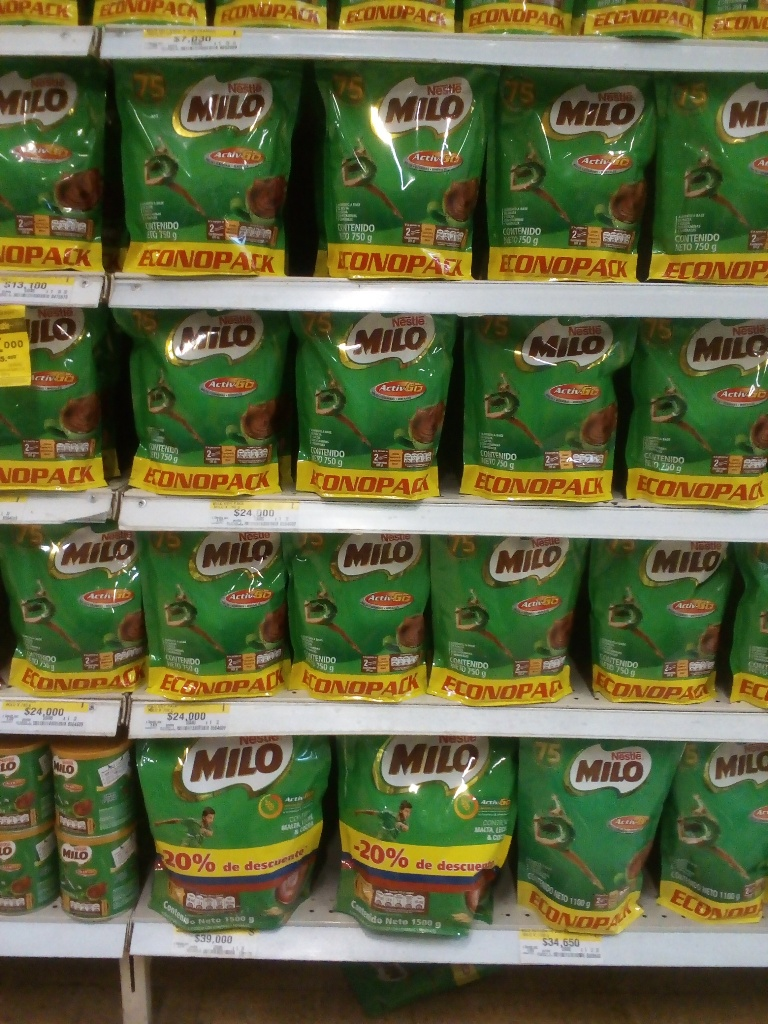COL0170203LAT40000: (3, 737, 54, 831)
